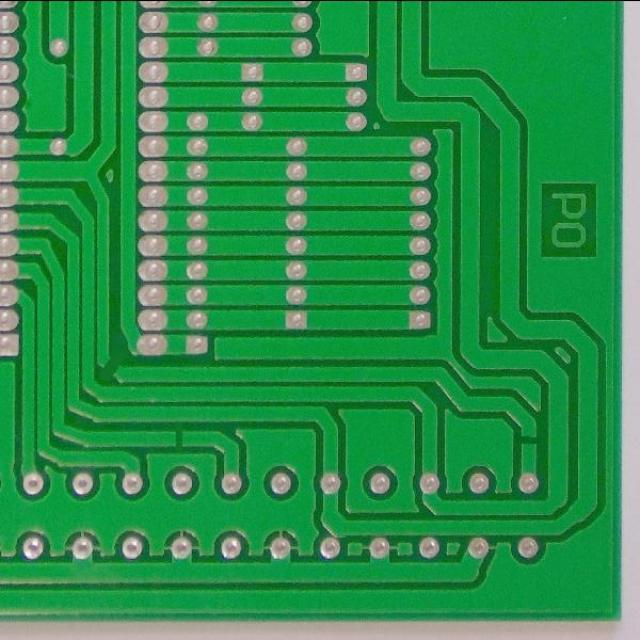Open_Circuit: (166, 417, 193, 458), (95, 353, 129, 384), (512, 428, 545, 453)
